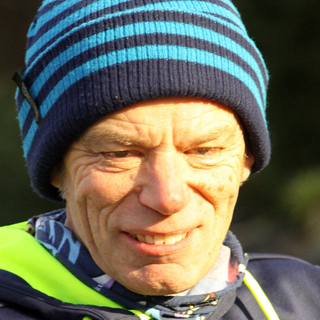eye: (96, 143, 147, 165), (182, 142, 228, 160)
